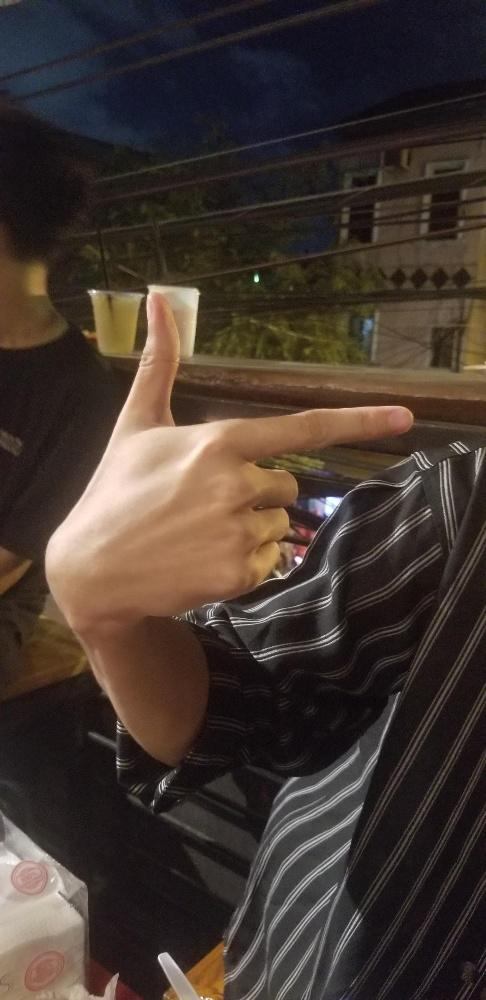g: (39, 288, 414, 629)
